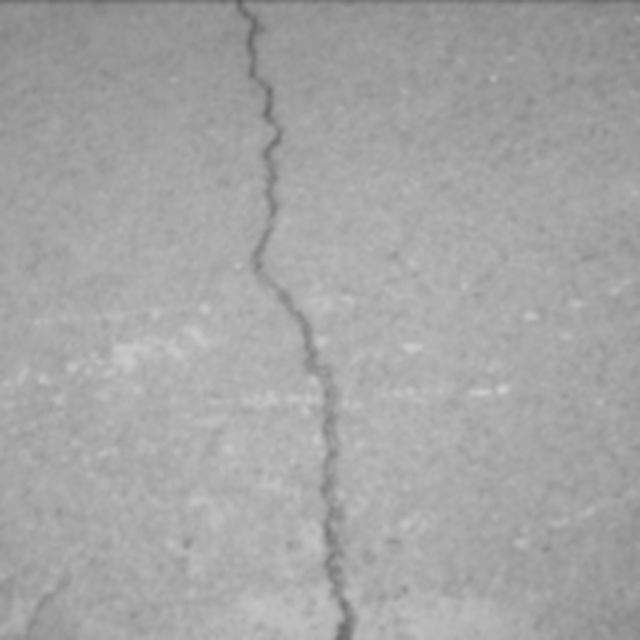SurfaceCrack: (195, 0, 392, 640)
